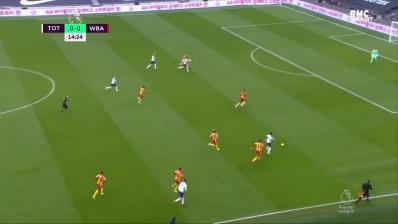football: (280, 142, 286, 148)
player: (91, 168, 108, 202), (171, 180, 191, 207), (233, 88, 250, 110), (250, 139, 264, 165), (207, 129, 221, 153), (171, 167, 184, 192), (146, 50, 160, 72), (104, 75, 120, 94), (265, 132, 276, 156), (136, 85, 148, 106), (177, 57, 191, 73), (369, 47, 380, 65)
referee: (59, 94, 70, 116)
